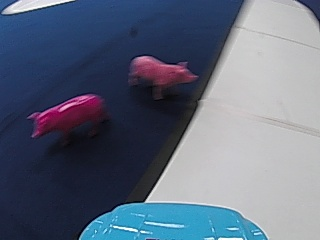pig: (24, 90, 108, 141), (129, 52, 196, 100)
